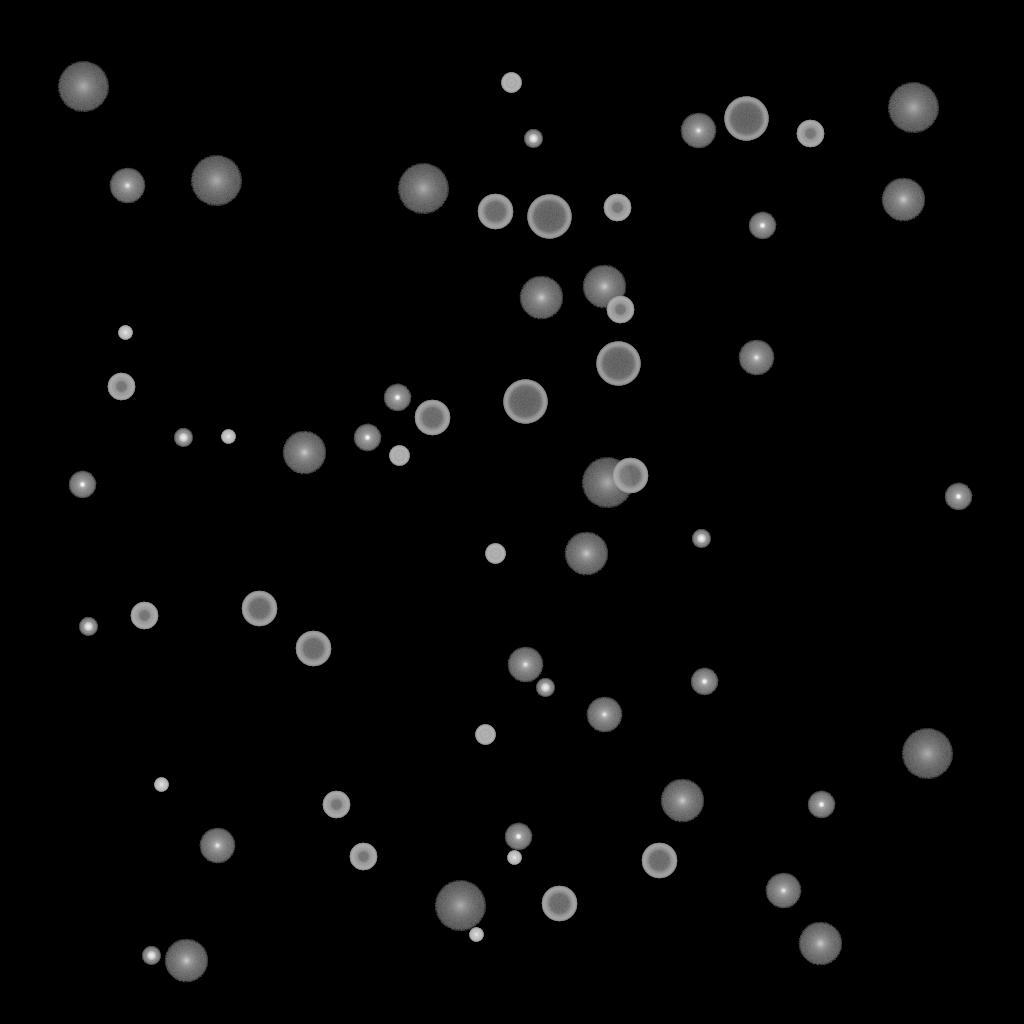depth:-10: (944, 483, 972, 511), (690, 668, 718, 696), (383, 384, 411, 412), (748, 212, 776, 240), (807, 791, 835, 819), (504, 823, 532, 851), (353, 424, 381, 452), (68, 471, 96, 499)
depth:-20: (524, 130, 542, 148), (536, 679, 554, 697), (174, 429, 192, 447), (142, 947, 160, 965), (79, 618, 97, 636), (692, 530, 710, 548)
depth:-30: (154, 778, 168, 792), (507, 851, 521, 865), (221, 430, 235, 444), (469, 928, 483, 942), (118, 326, 132, 340)
depth:-40: (485, 544, 505, 564), (389, 446, 409, 466), (501, 73, 521, 93), (475, 725, 495, 745)
depth:-50: (107, 373, 135, 401), (349, 843, 377, 871), (130, 602, 158, 630), (322, 791, 350, 819), (603, 194, 631, 222), (796, 120, 824, 148), (606, 296, 634, 324)
depth:-60: (295, 631, 331, 667), (641, 843, 677, 879), (414, 400, 450, 436), (241, 591, 277, 627), (477, 194, 513, 230), (541, 886, 577, 922), (612, 458, 648, 494)
depth:-70: (503, 380, 547, 424), (596, 342, 640, 386), (724, 97, 768, 141), (527, 195, 571, 239)
depth:0: (109, 168, 145, 204), (680, 113, 716, 149), (765, 873, 801, 909), (199, 828, 235, 864), (738, 340, 774, 376), (507, 647, 543, 683), (586, 697, 622, 733)
depth:10: (519, 276, 563, 320), (660, 779, 704, 823), (582, 265, 626, 309), (881, 178, 925, 222), (798, 922, 842, 966), (164, 939, 208, 983), (282, 431, 326, 475), (564, 532, 608, 576)
depth:20: (887, 83, 939, 133), (901, 729, 953, 779), (434, 881, 486, 931), (397, 164, 449, 214), (57, 62, 109, 112), (581, 458, 633, 508), (190, 156, 242, 206)
